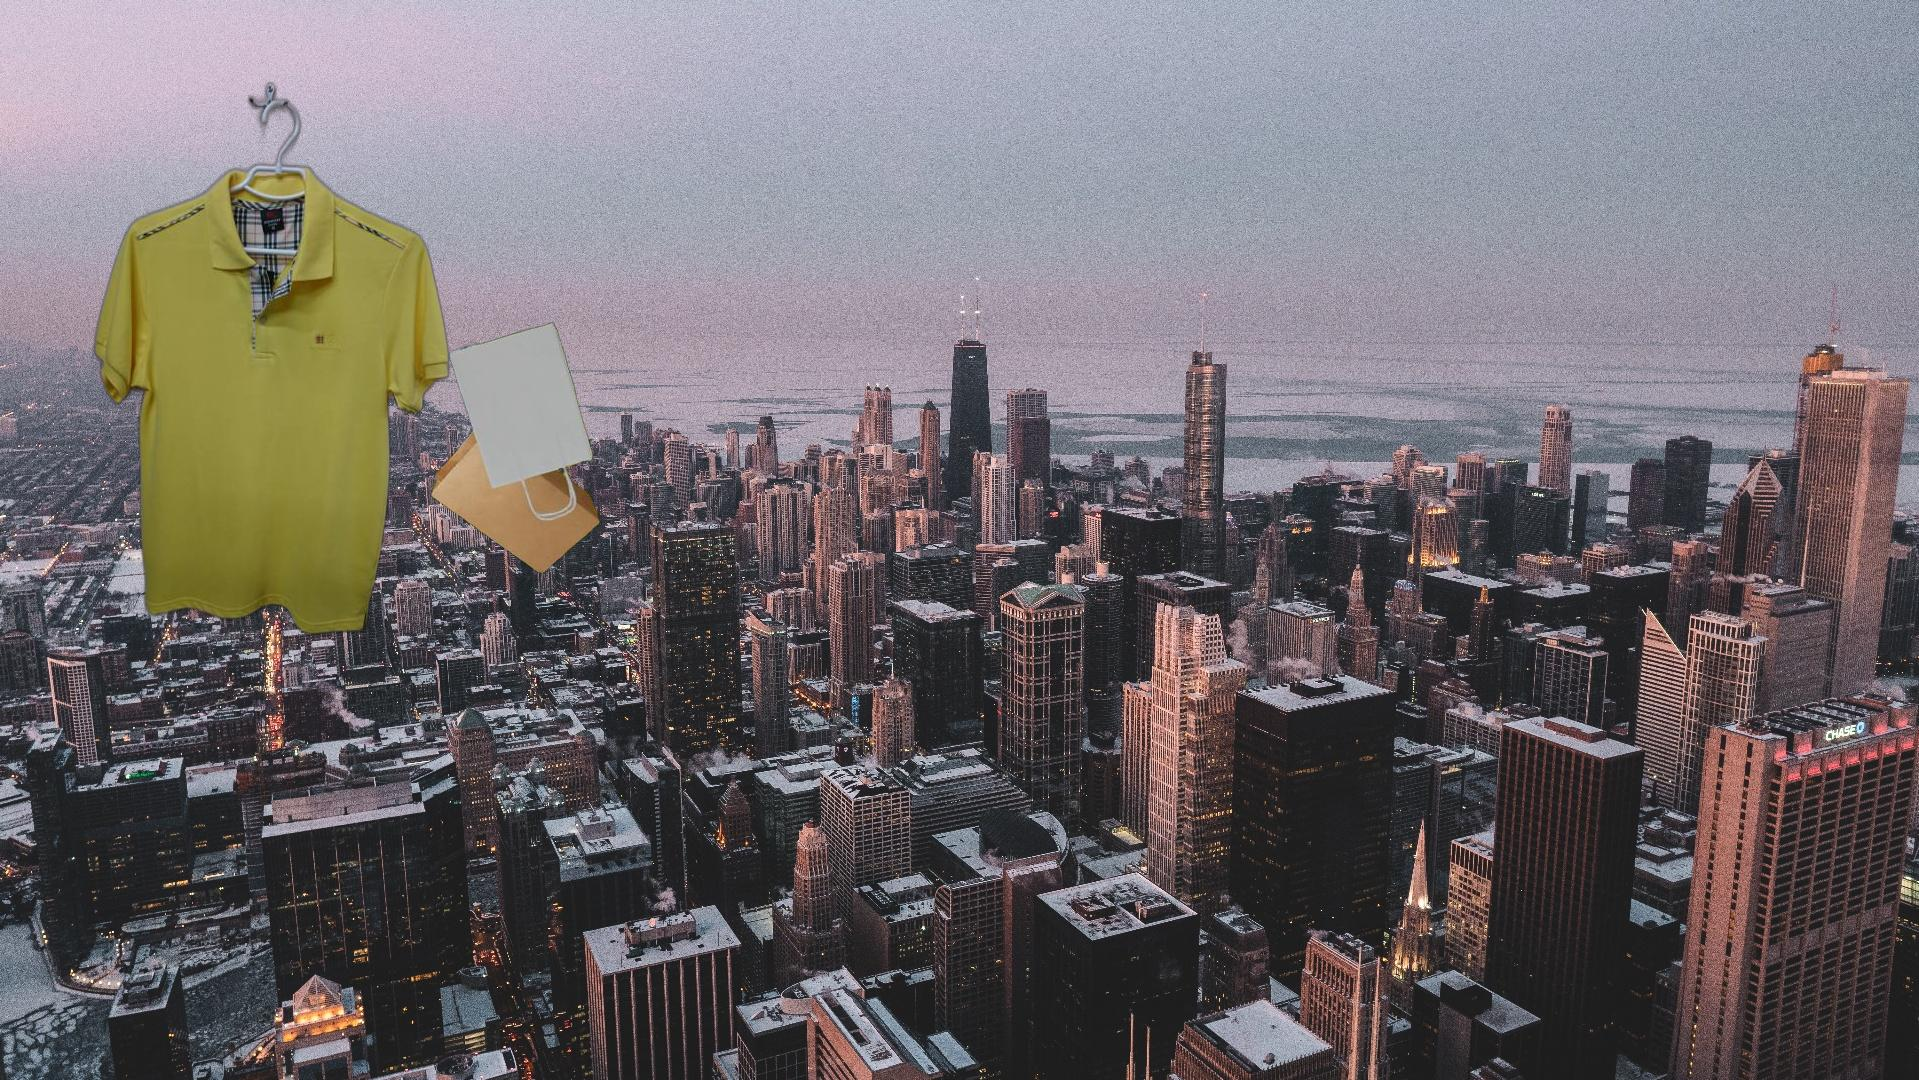clothes: (91, 76, 453, 641)
paper-bag: (427, 320, 604, 578)
